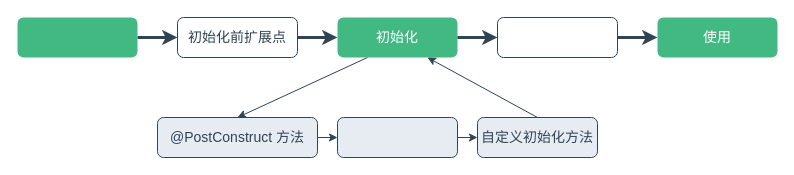
Some shapes in this 794 by 175 pixel diagram are drawn without their labels. The centre of each missing label's shape, as x and y in pixels:
InitializingBean: (397,137)
初始化后扩展点: (557,37)
属性填充: (77,37)
